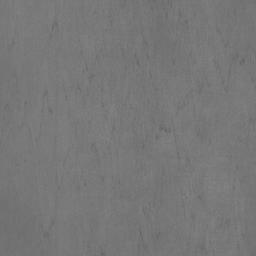Silk spot: (159, 121, 178, 143), (138, 227, 147, 250), (198, 81, 210, 94), (218, 218, 230, 229), (197, 128, 206, 142), (198, 242, 207, 254), (52, 18, 59, 32), (91, 143, 98, 156)
